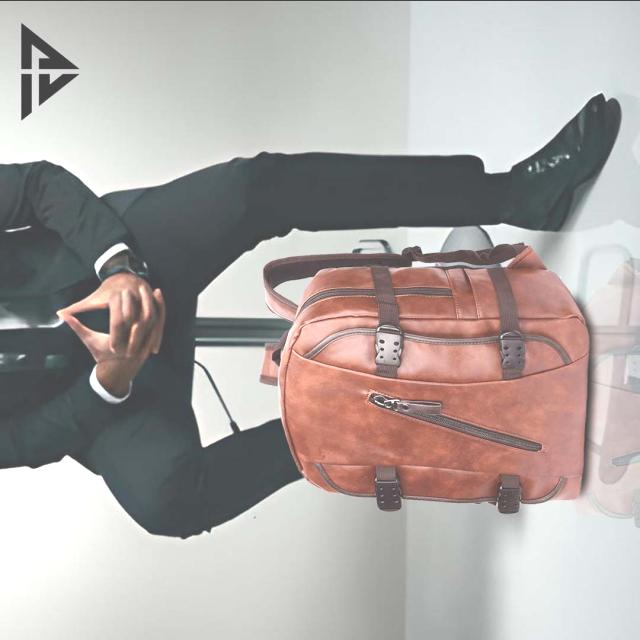backpack: (260, 242, 592, 515)
